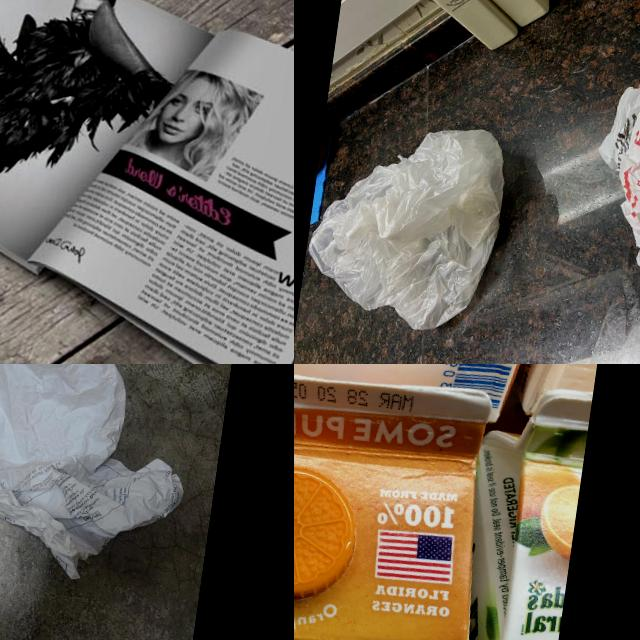caixinha: (371, 371, 593, 640), (294, 364, 508, 640)
papel: (0, 0, 294, 364), (0, 364, 209, 593)
sacola plástica: (297, 108, 514, 342), (574, 0, 640, 348)
tampa plástica: (294, 456, 365, 613)
